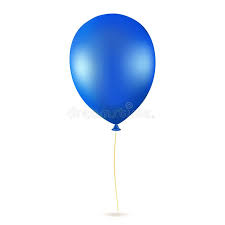Balloon: (70, 14, 156, 125)
